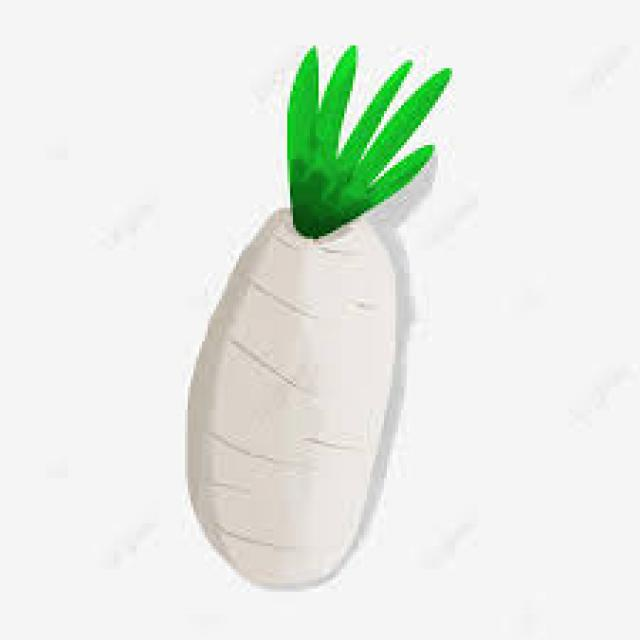raddish: (188, 46, 452, 587)
